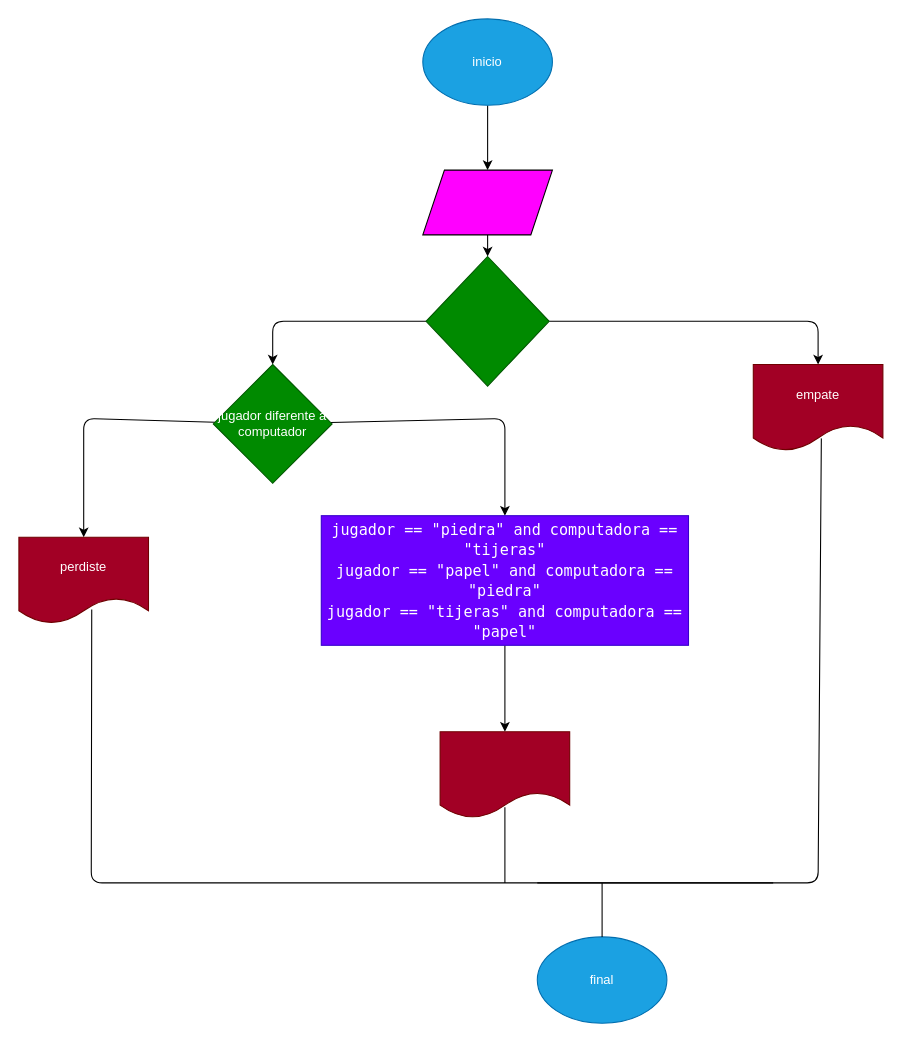
Image size: 902x1042. Some labels were removed from this diagram. Here are the shapes that lost their labels. From the top down, the centre of each, then its label:
(487,202): piedra, papel, tijera
(487,320): jugador == computador
(504,774): ganaste
